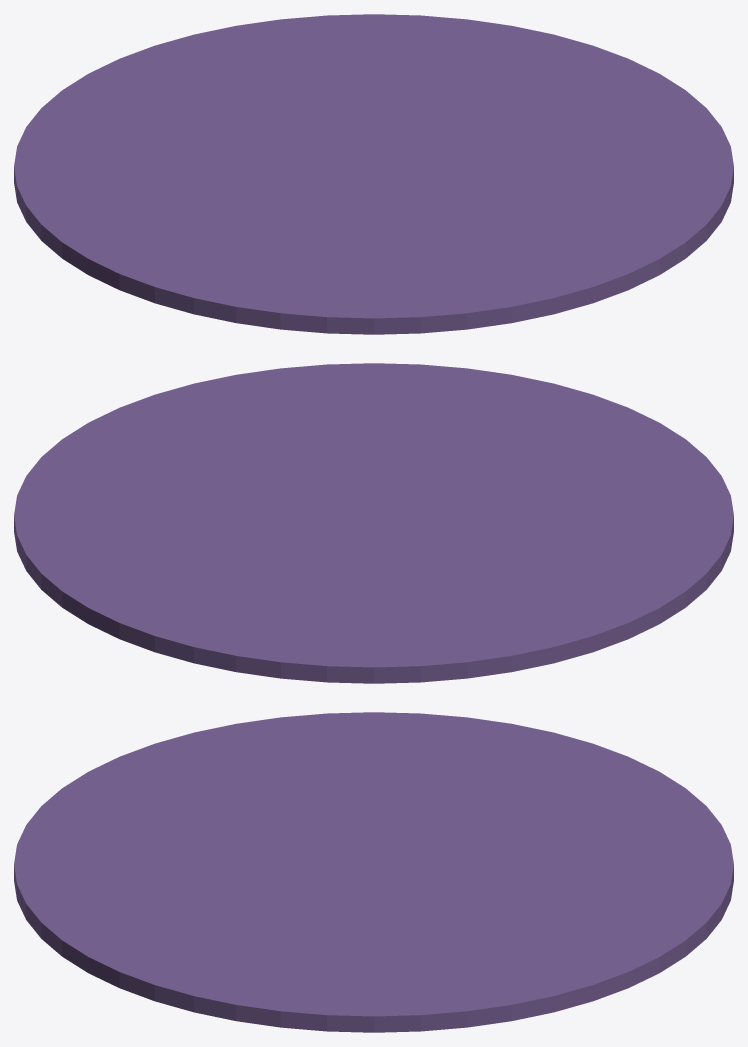
File: VUV.glb
The picture shows the model from 3 angles, top to bottom: view 1: azimuth 30°, elevation 25°; view 2: azimuth 150°, elevation 25°; view 3: azimuth 270°, elevation 25°; orthographic projection.
Parts seen in each view (by area): view 1: Mesh_Mesh_head_geo.001_lambert2SG.001; view 2: Mesh_Mesh_head_geo.001_lambert2SG.001; view 3: Mesh_Mesh_head_geo.001_lambert2SG.001.
Boxes of the visible parts, x1,y1,x2,y2 form: Mesh_Mesh_head_geo.001_lambert2SG.001: (14,14,733,334); Mesh_Mesh_head_geo.001_lambert2SG.001: (14,363,733,683); Mesh_Mesh_head_geo.001_lambert2SG.001: (14,712,733,1032).
Bounding box in the file's own units: 0.02 × 0.0005 × 0.02.
